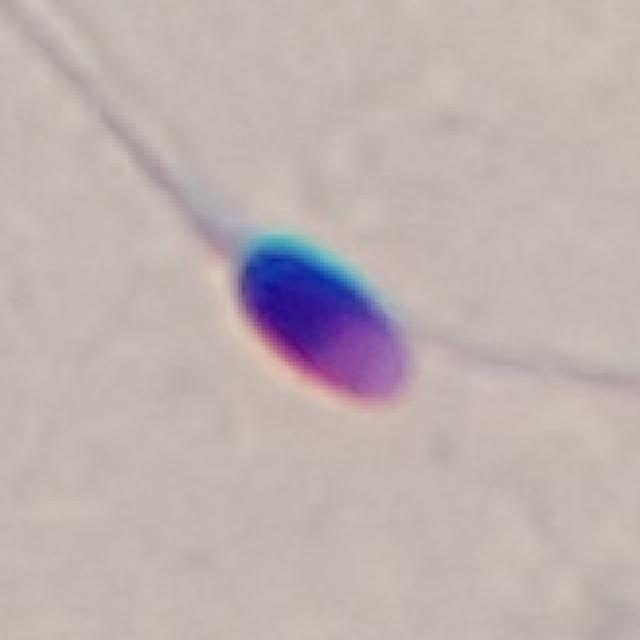normal sperm: (172, 188, 412, 407)
